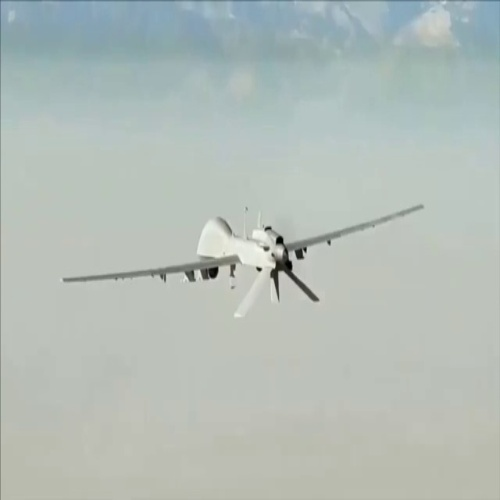uav: (61, 204, 429, 317)
